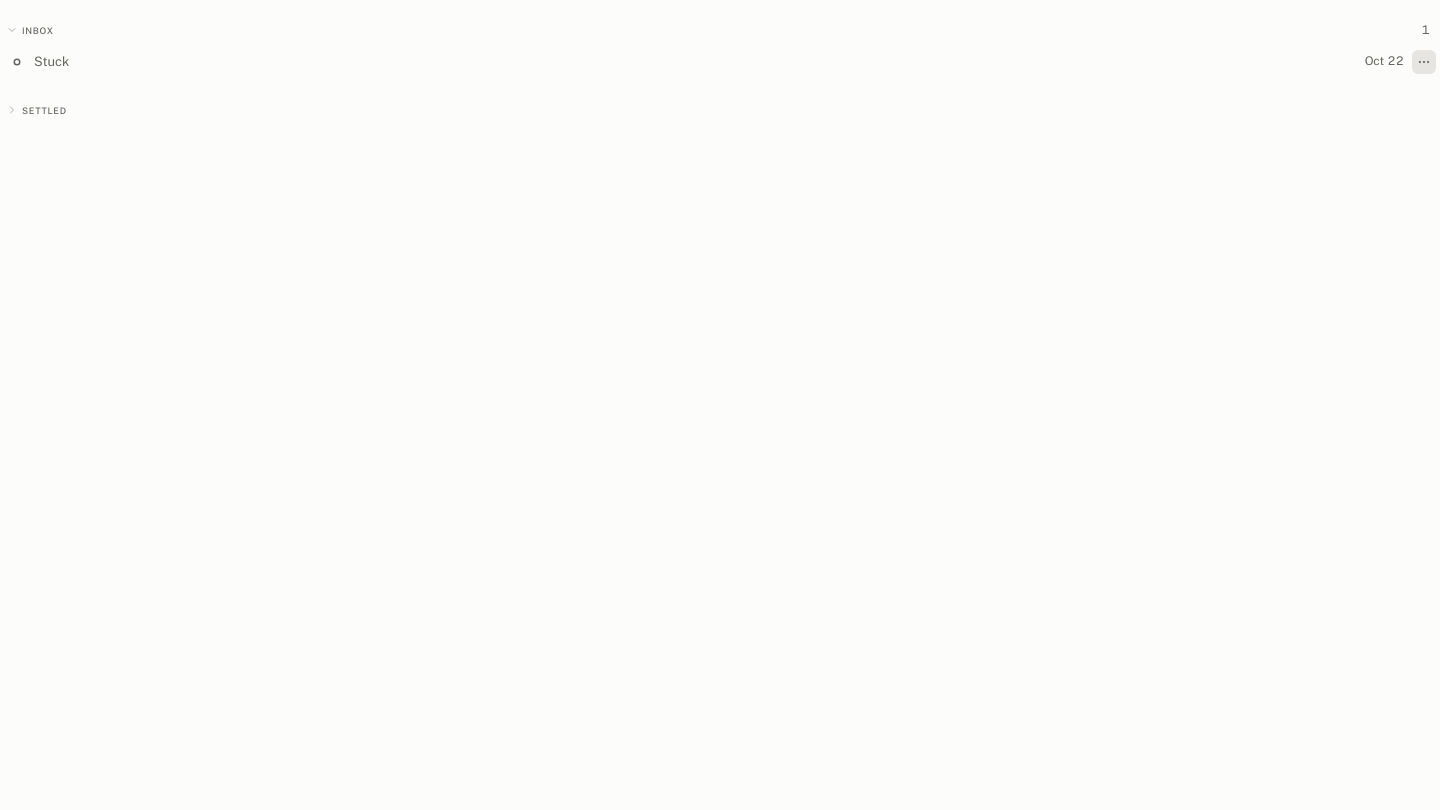
undo settle, snooze and archive › rolls the row back and says so when the reopen is refused
Click the button named "Actions for Stuck": (1424, 62) [1412, 50, 1436, 74]
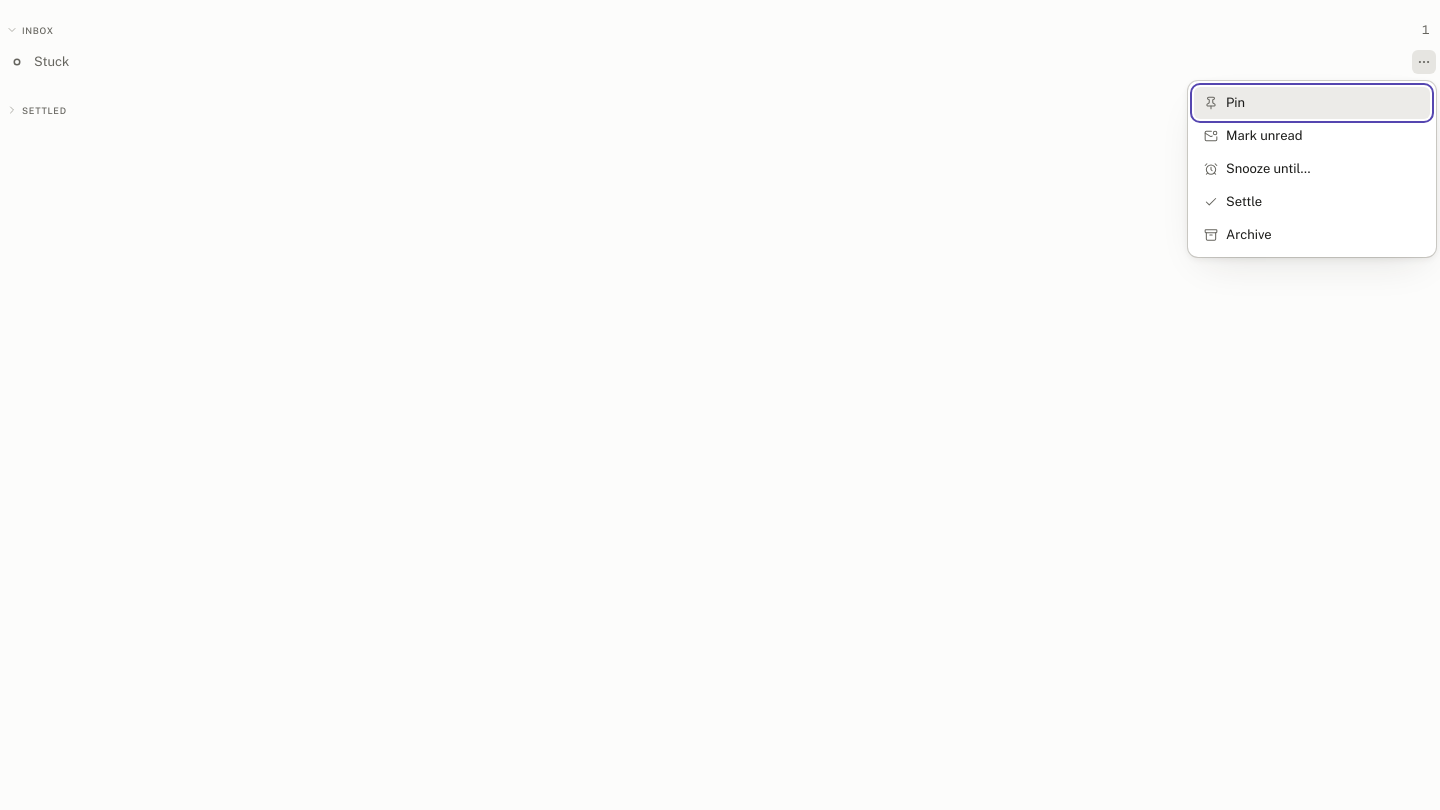
Click the button "Settle": (1312, 202) [1194, 186, 1430, 218]
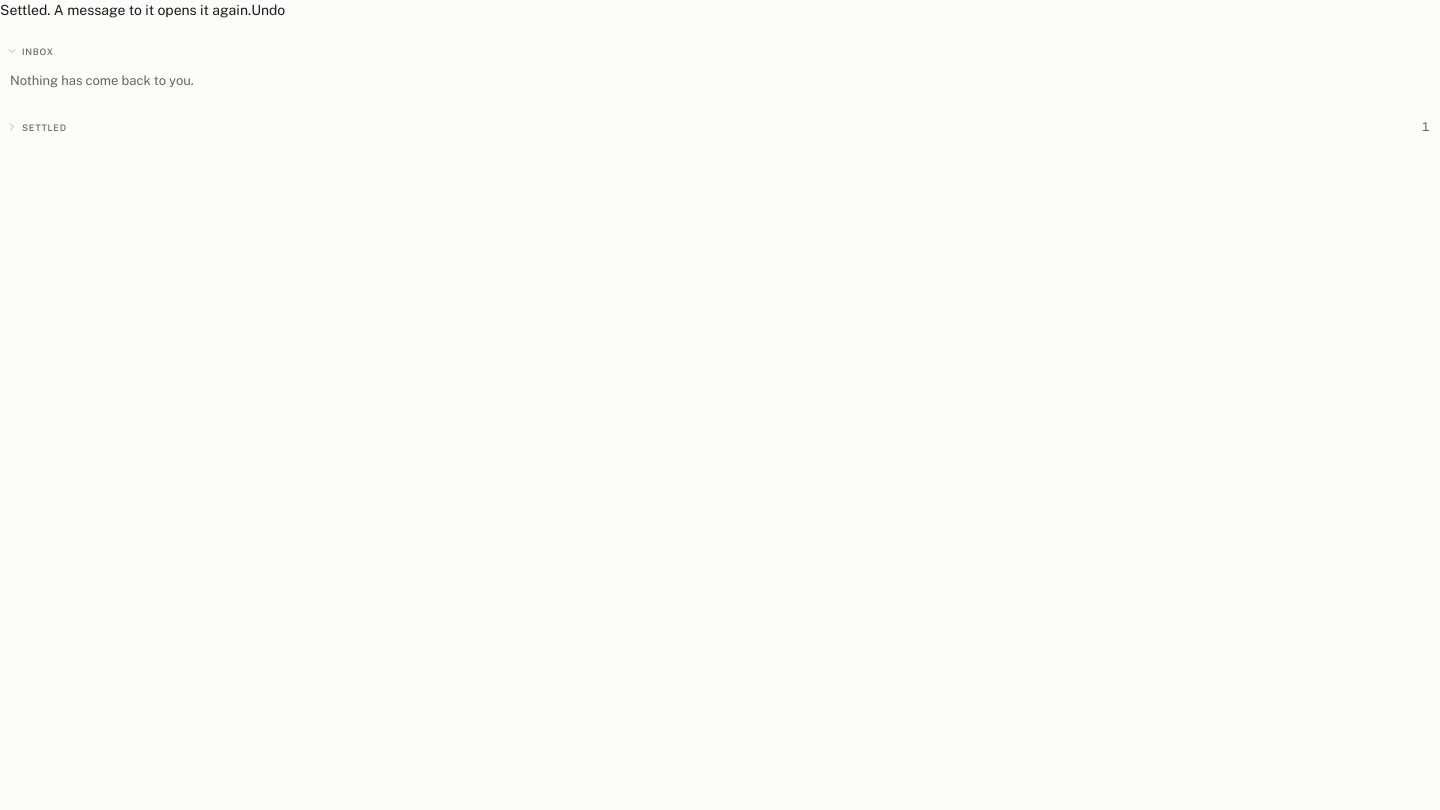
Expected: the text "Settled. A message to it opens it again. Undo" is shown, [0, 0, 285, 21]
Press z
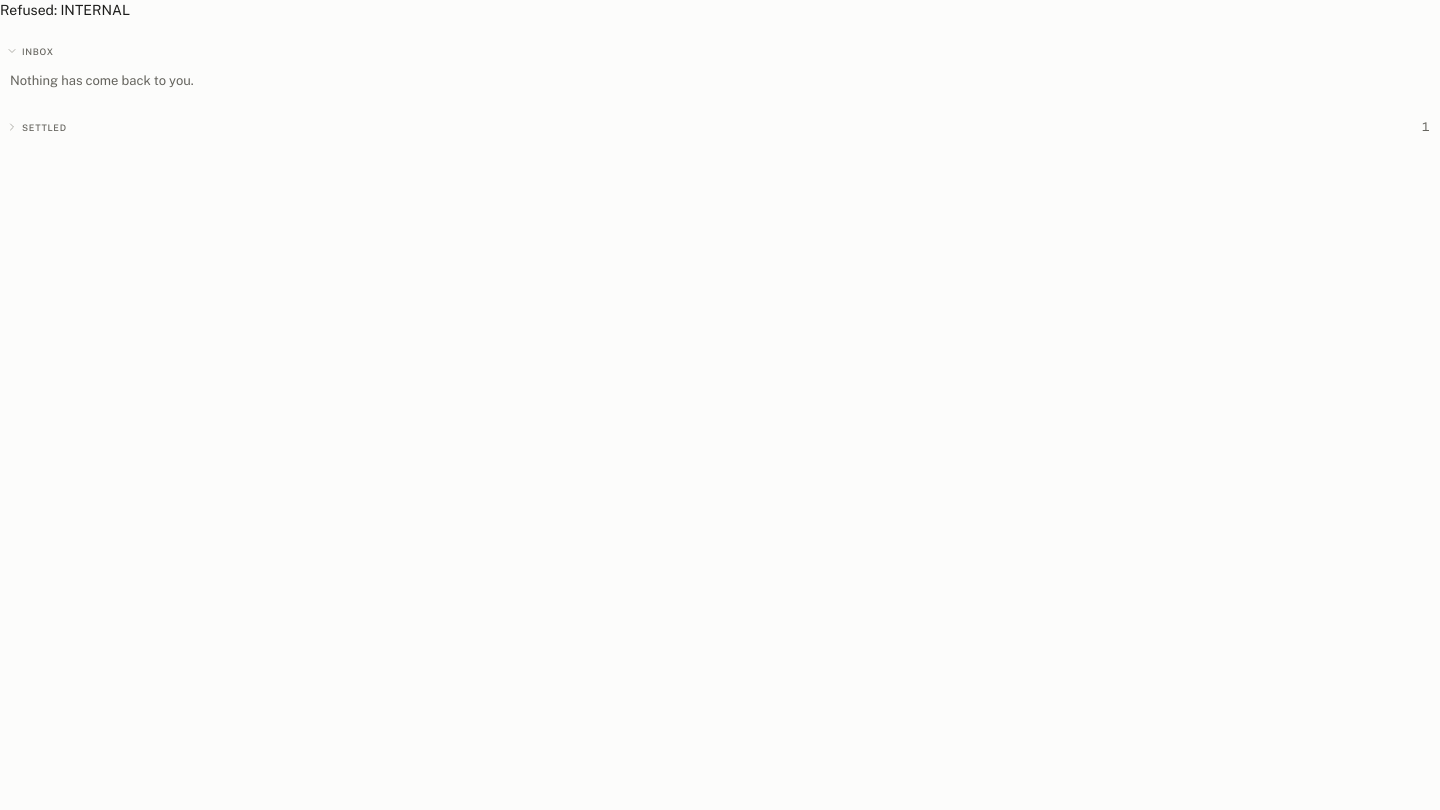
Expected: the text "Refused: INTERNAL" is shown, [0, 2, 130, 18]
